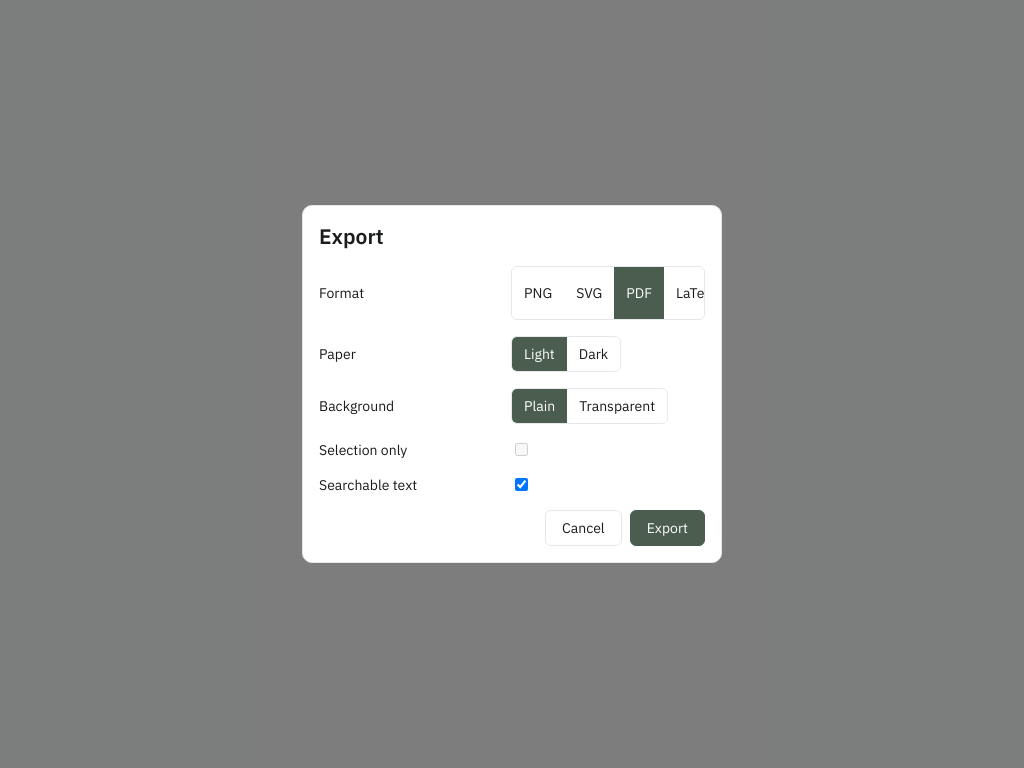
Test: ExportDialog › defaults to PDF and offers scale only for PNG
Check: the element "Scale" is not shown
Check: the checkbox labelled "Searchable text" is shown, box 515,478 -> 528,491
Click the button "PNG": (538, 293) 512,267 -> 564,319
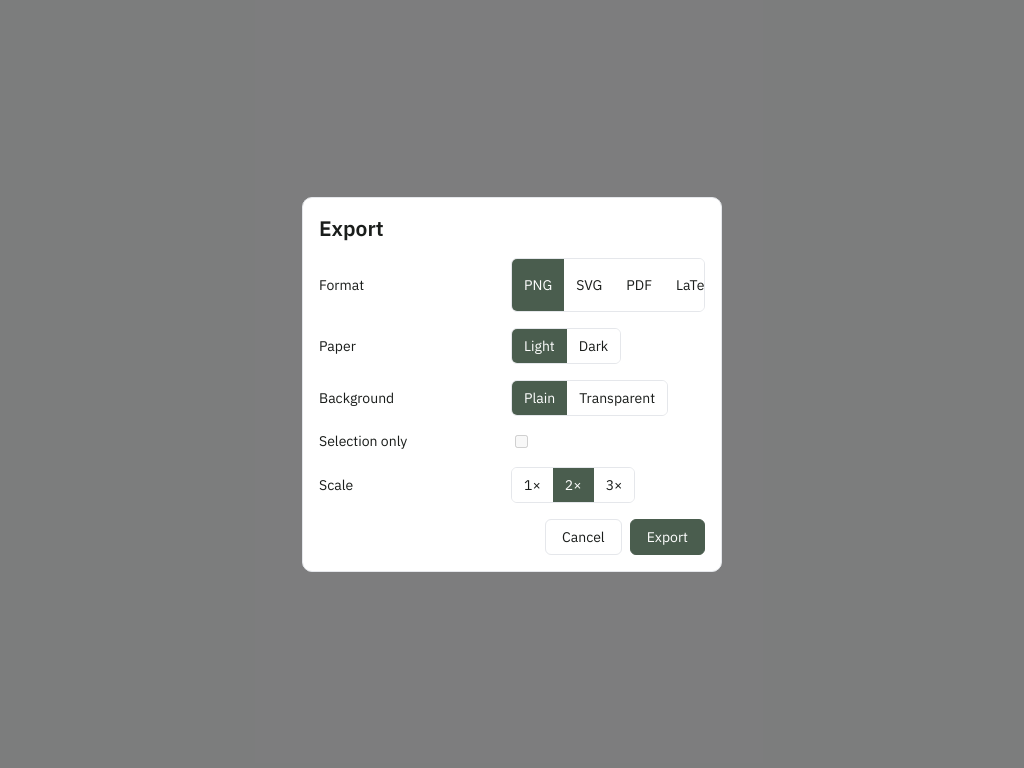
Check: the element named "Scale" is shown, box 511,466 -> 635,502
Click the button "SVG": (589, 284) 564,258 -> 614,310
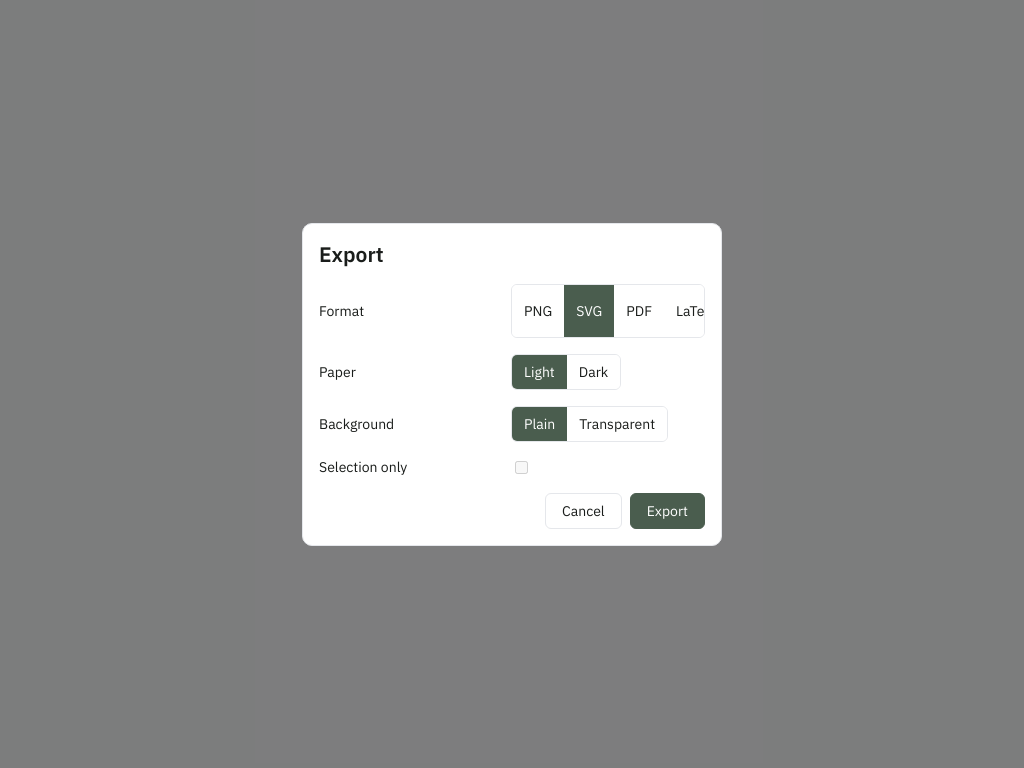
Check: the element named "Paper" is shown, box 511,354 -> 621,390
Check: the text "Scale" is gone
